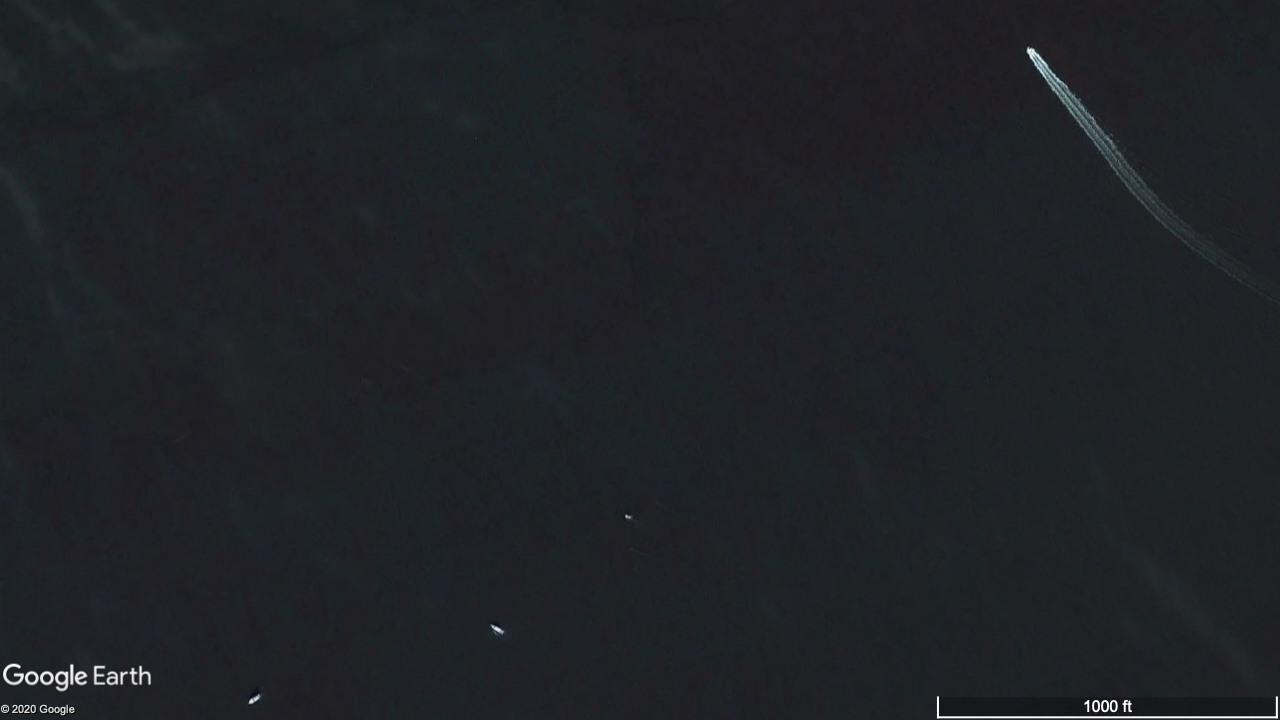satboat: (489, 623, 506, 634), (248, 694, 261, 704), (1027, 45, 1033, 56), (624, 514, 633, 519)
